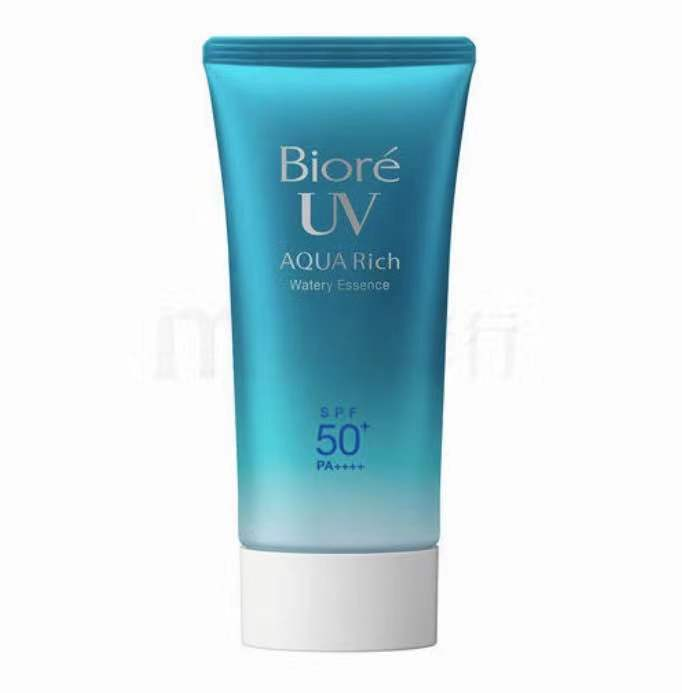cosmetic: (200, 35, 477, 653)
